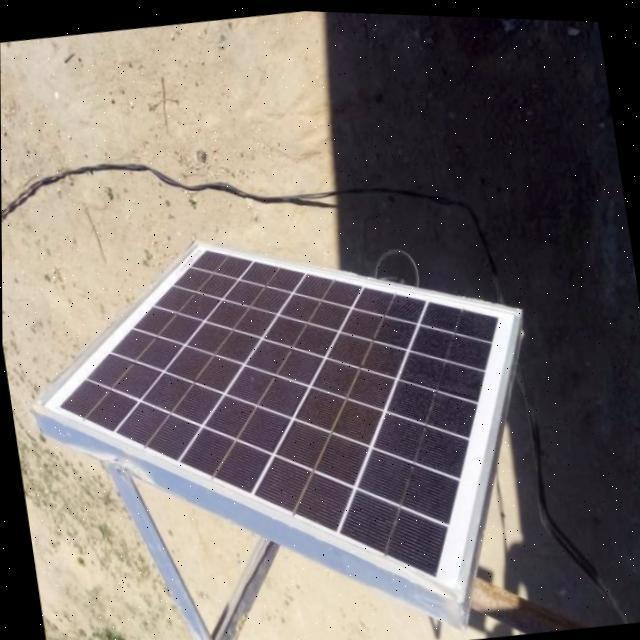Normal Solar Panel: (10, 189, 561, 640)
